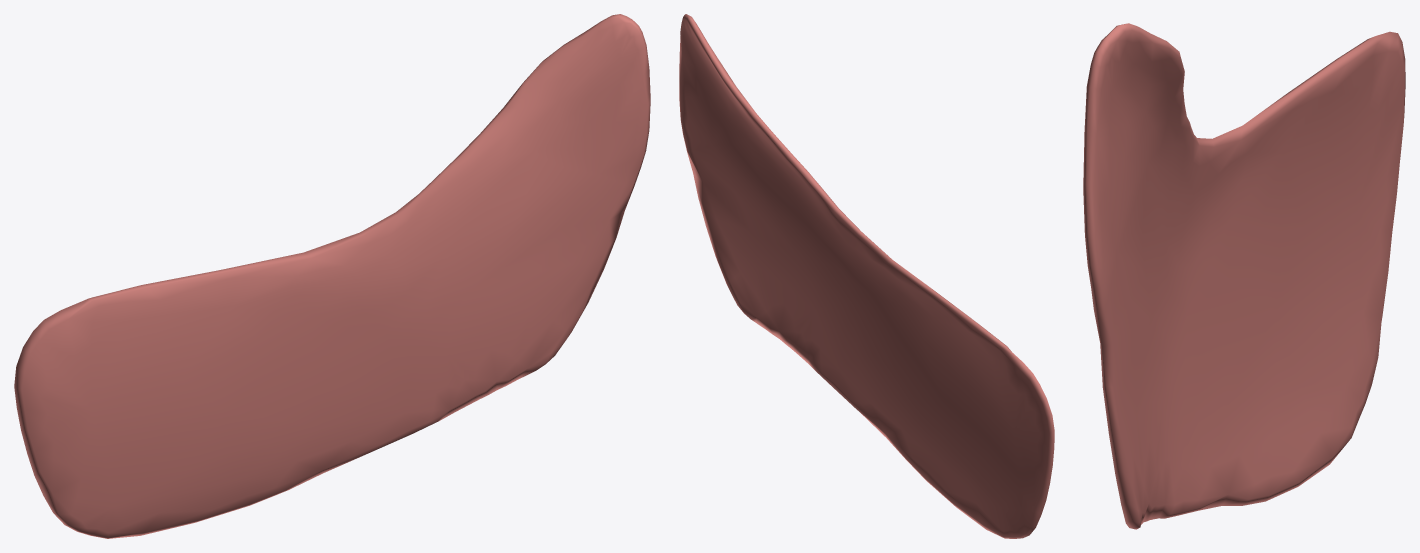
3 renders of one model, left to right at view 1: azimuth 30°, elevation 25°; view 2: azimuth 150°, elevation 25°; view 3: azimuth 270°, elevation 25°, orthographic. The views are drawn at different scales.
Parts seen in each view (by area): view 1: ZA_ec51ef9aed68b14b; view 2: ZA_ec51ef9aed68b14b; view 3: ZA_ec51ef9aed68b14b.
Part boxes in pixels (x1,y1,x2,y2): ZA_ec51ef9aed68b14b: (14,14,650,538); ZA_ec51ef9aed68b14b: (679,14,1054,538); ZA_ec51ef9aed68b14b: (1083,23,1405,529).
Size of the model in its own units: 0.0327 by 0.0269 by 0.01.
